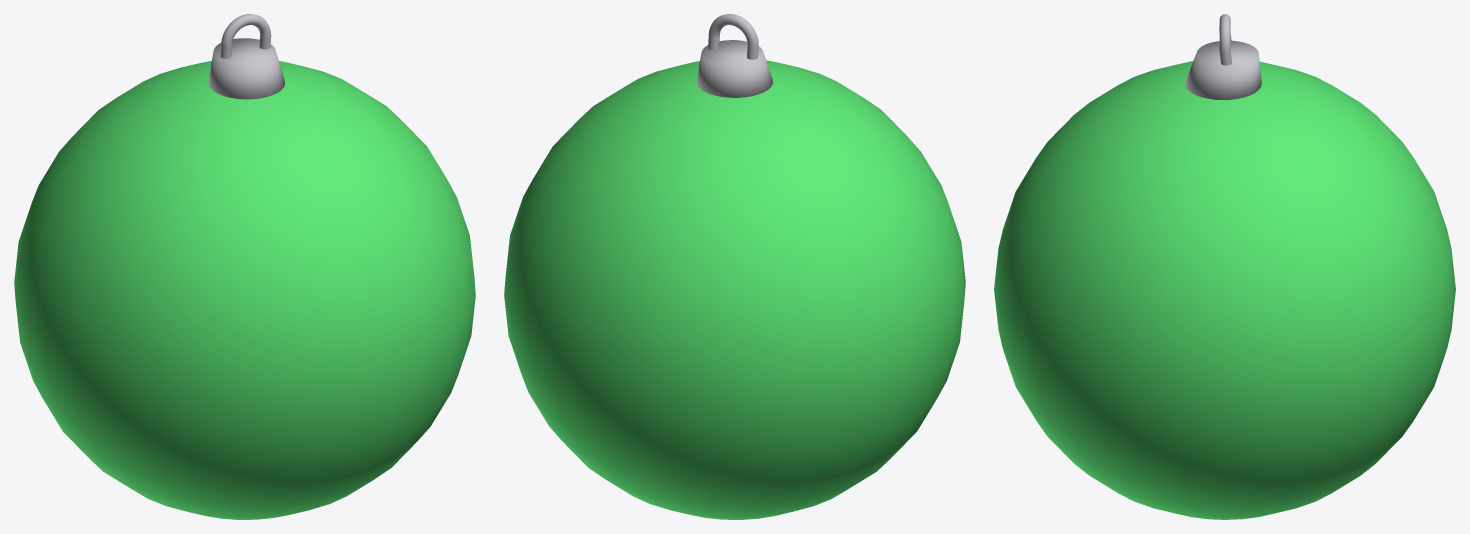
The model's file is GreenBall.fbx.
The picture shows the model from 3 angles, left to right: view 1: azimuth 30°, elevation 25°; view 2: azimuth 150°, elevation 25°; view 3: azimuth 270°, elevation 25°; orthographic projection.
Visible parts, largest first — view 1: Sphere.002; view 2: Sphere.002; view 3: Sphere.002.
Boxes of the visible parts, <box> form: Sphere.002: <box>14,14,475,519</box>; Sphere.002: <box>504,14,965,519</box>; Sphere.002: <box>994,14,1455,519</box>.
Size of the model in its own units: 2 by 2.31 by 2.
